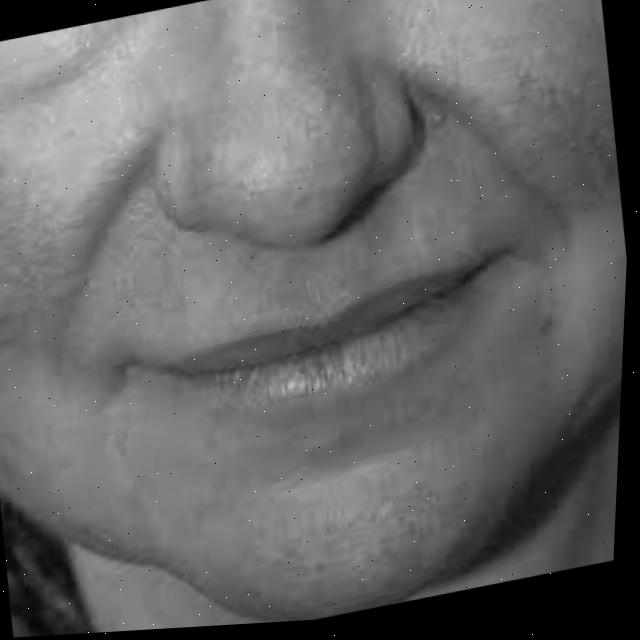Rosacea: (244, 441, 419, 599), (501, 0, 626, 187), (0, 101, 40, 285)
